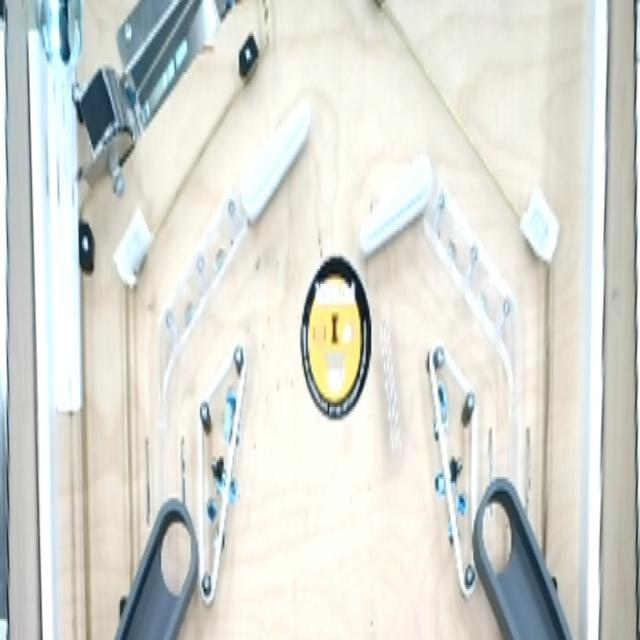flipper-left: (356, 154, 442, 262)
flipper-right: (238, 92, 318, 231)
